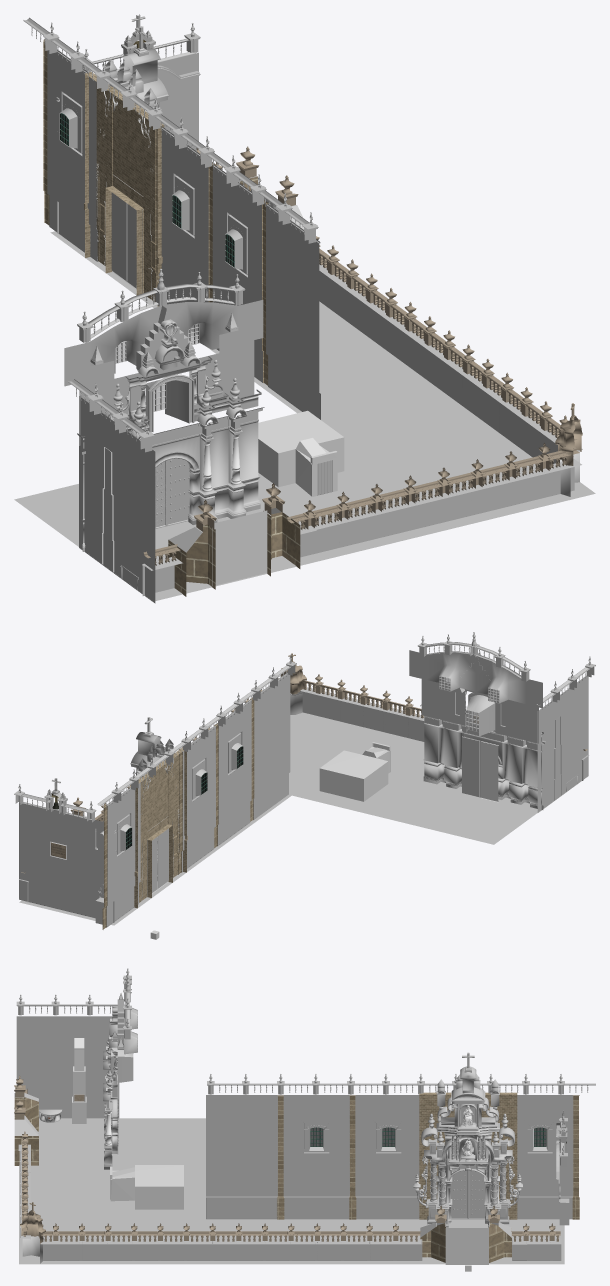
Rendered from Patio Concluido.fbx.
3 renders of one model, top to bottom at view 1: azimuth 30°, elevation 25°; view 2: azimuth 150°, elevation 25°; view 3: azimuth 270°, elevation 25°, orthographic. The views are drawn at different scales.
Visible parts, largest first — view 1: Plane, Cube.035, Cube.034, Plane.027, Cube.016, Plane.003, Plane.004, Plane.001, Ventana_Base, Plane.002, Cube.015, Base_01 (+18 smaller); view 2: Plane, Cube.013, Plane.027, Plane.003, Base_01, Cube.016, Plane.002, Cube.015, Cube.034, Plane.004, Ventana_Base, Plane.001 (+12 smaller); view 3: Plane, Cube.035, Plane.003, Plane.002, Plane.001, Plane.027, Plane.004, Cube.016, torre inferior.001, ajdrz detalles.004, Plane.006, Cube.073 (+23 smaller).
Part boxes in pixels (x1,y1,x2,y2): Plane: [14, 231, 595, 600]; Cube.035: [316, 236, 568, 463]; Cube.034: [303, 442, 581, 555]; Plane.027: [79, 396, 155, 603]; Cube.016: [84, 72, 164, 306]; Plane.003: [262, 200, 320, 419]; Plane.004: [43, 39, 97, 261]; Plane.001: [155, 127, 208, 334]; Ventana_Base: [79, 326, 254, 445]; Plane.002: [208, 162, 262, 382]; Cube.015: [64, 300, 263, 386]; Base_01: [82, 421, 260, 551]; Plane: [19, 712, 537, 925]; Cube.013: [19, 802, 95, 917]; Plane.027: [537, 675, 588, 812]; Plane.003: [250, 672, 290, 821]; Base_01: [423, 723, 543, 809]; Cube.016: [134, 747, 187, 908]; Plane.002: [214, 699, 251, 847]; Cube.015: [409, 650, 542, 708]; Cube.034: [297, 674, 478, 741]; Plane.004: [102, 782, 140, 929]; Ventana_Base: [421, 679, 538, 743]; Plane.001: [178, 726, 215, 874]; Plane: [19, 1118, 564, 1264]; Cube.035: [52, 1223, 422, 1260]; Plane.003: [206, 1095, 284, 1219]; Plane.002: [283, 1095, 356, 1219]; Plane.001: [355, 1095, 419, 1219]; Plane.027: [16, 1016, 119, 1118]; Plane.004: [517, 1095, 579, 1219]; Cube.016: [418, 1092, 517, 1219]; torre inferior.001: [110, 1165, 183, 1209]; ajdrz detalles.004: [207, 1074, 595, 1094]; Plane.006: [421, 1122, 514, 1161]; Cube.073: [448, 1163, 488, 1219].
Bounding box in the file's own units: 3365 × 2257 × 5406.
